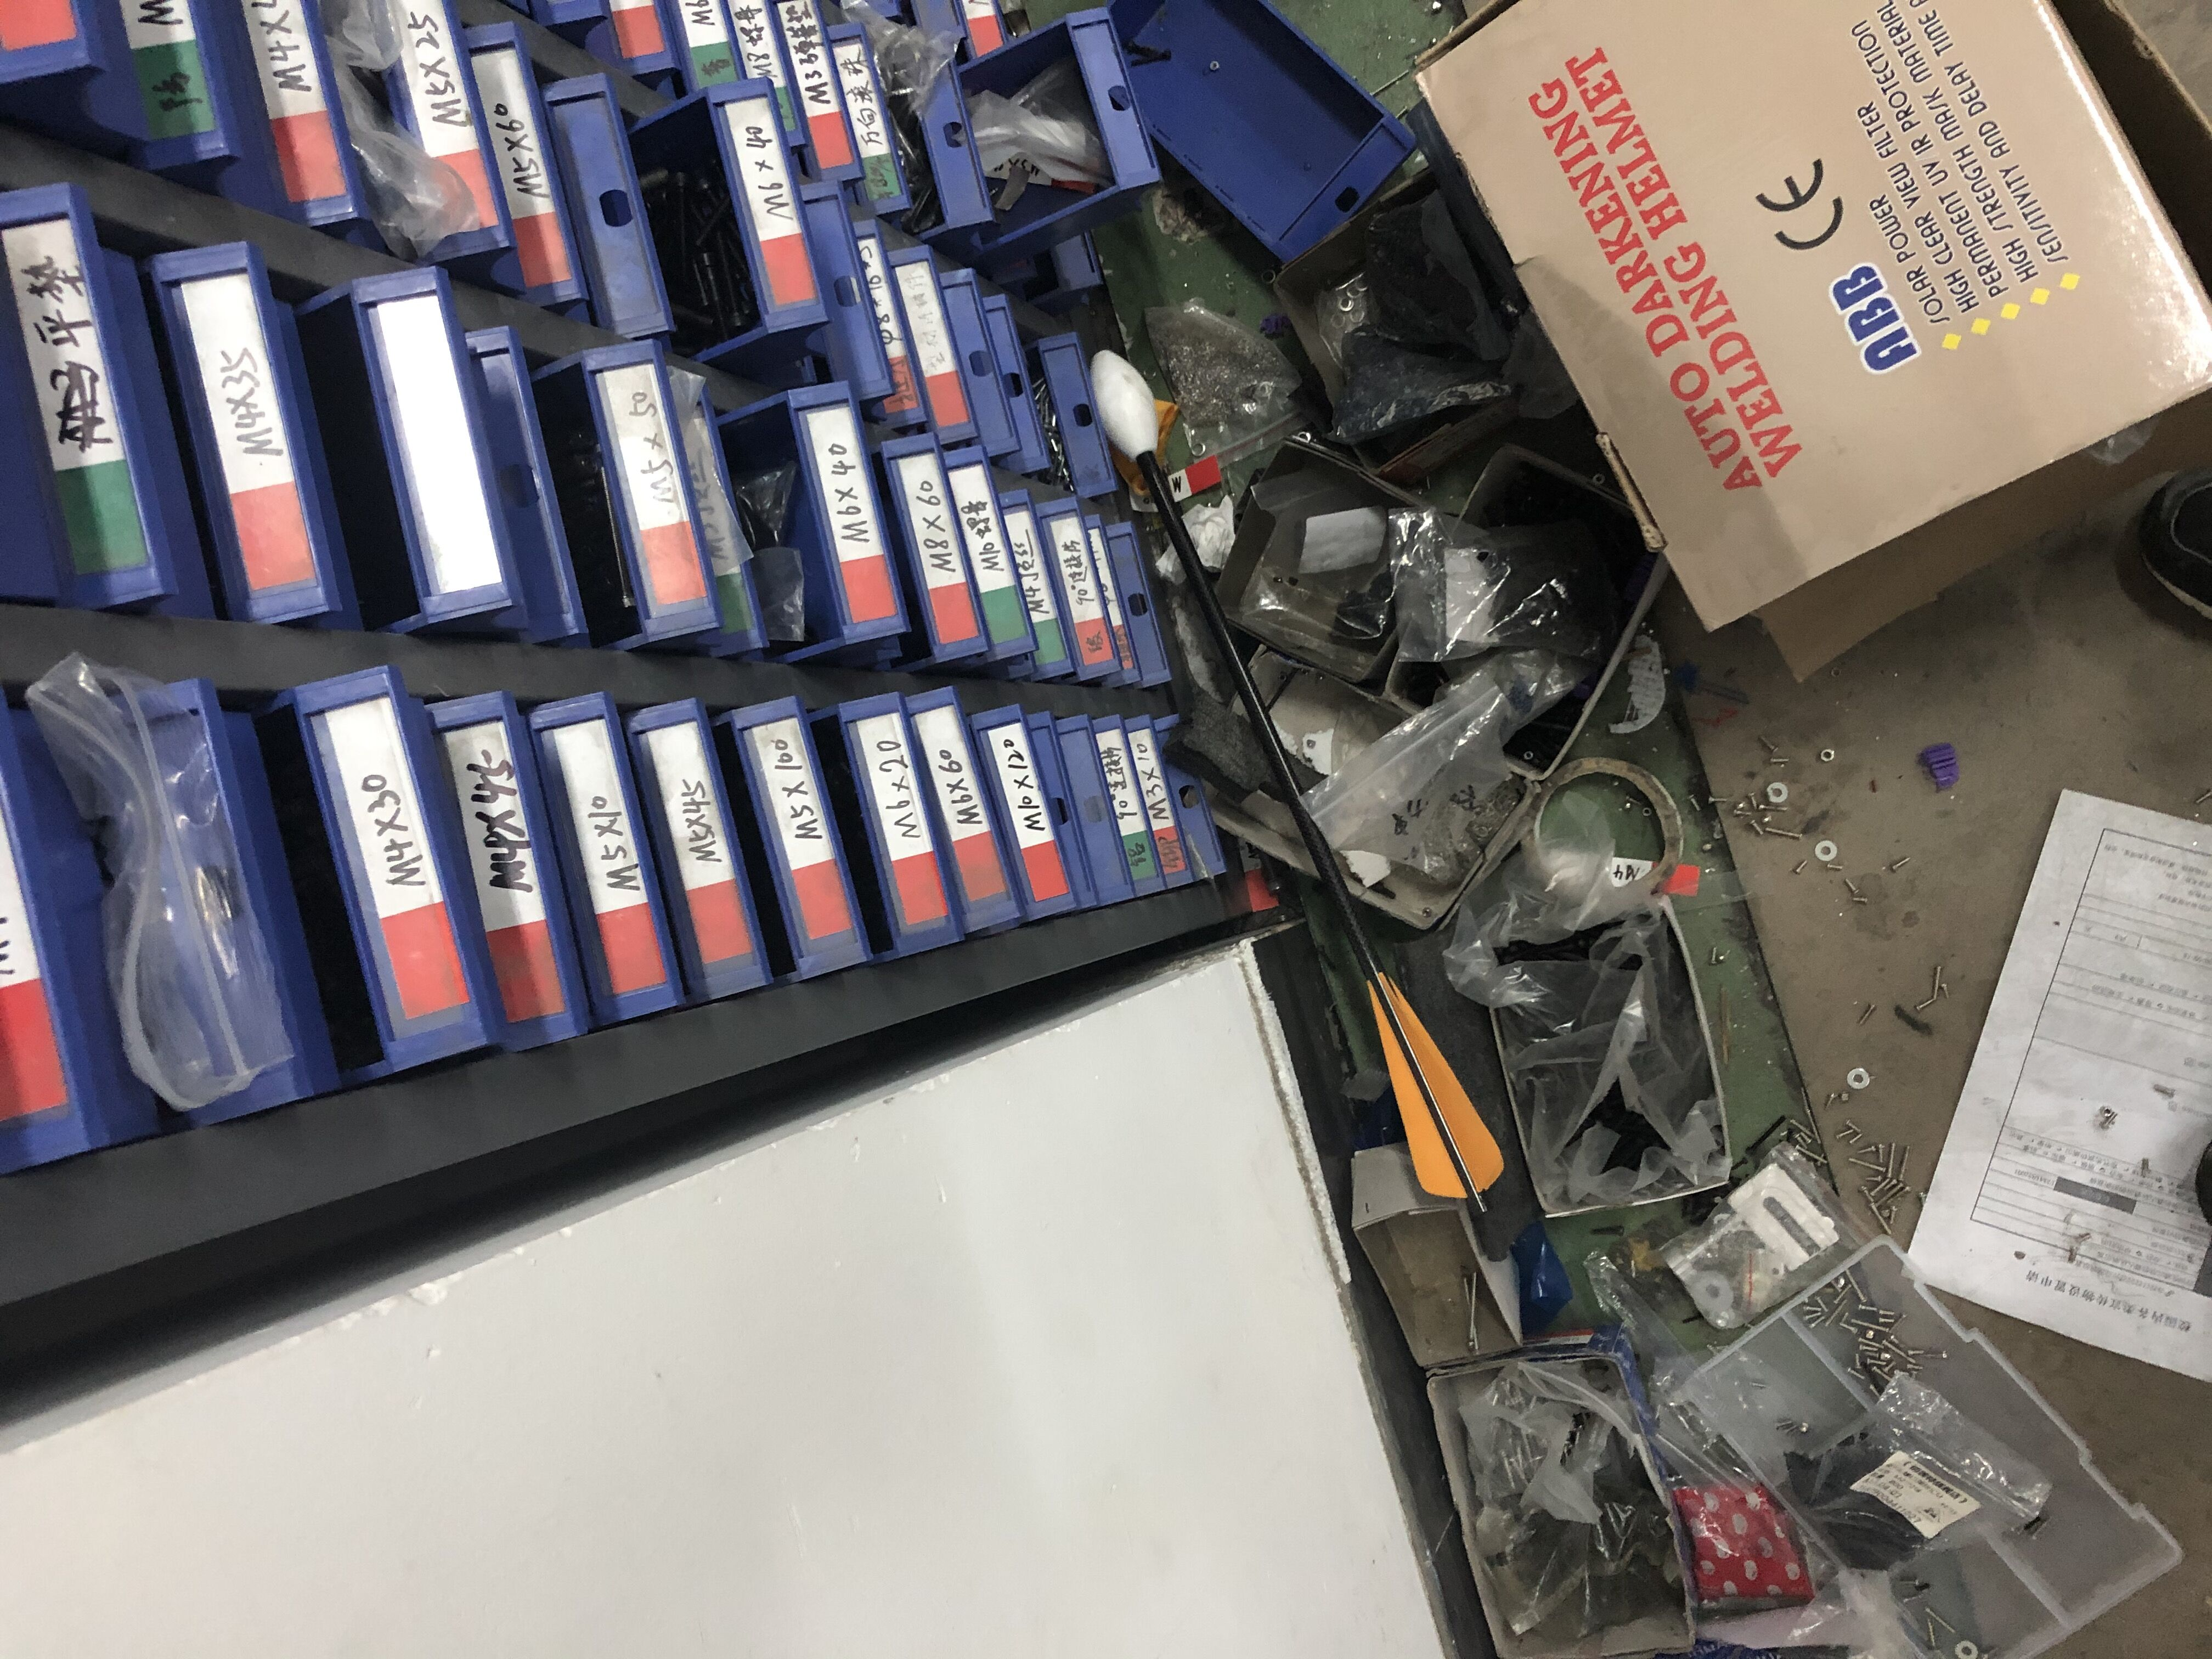arrow: (1082, 343, 1510, 1225)
arrowFront: (1085, 349, 1160, 457)
